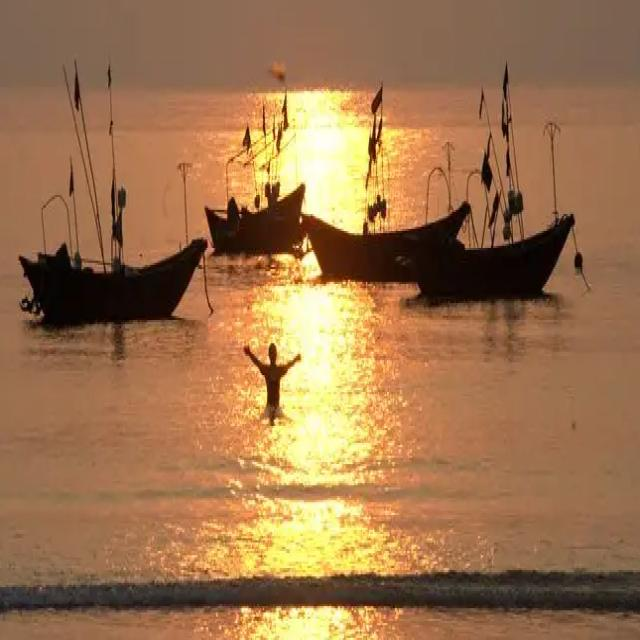fishing boat: (18, 52, 204, 333), (415, 59, 574, 303), (307, 74, 464, 278), (206, 83, 304, 258)
